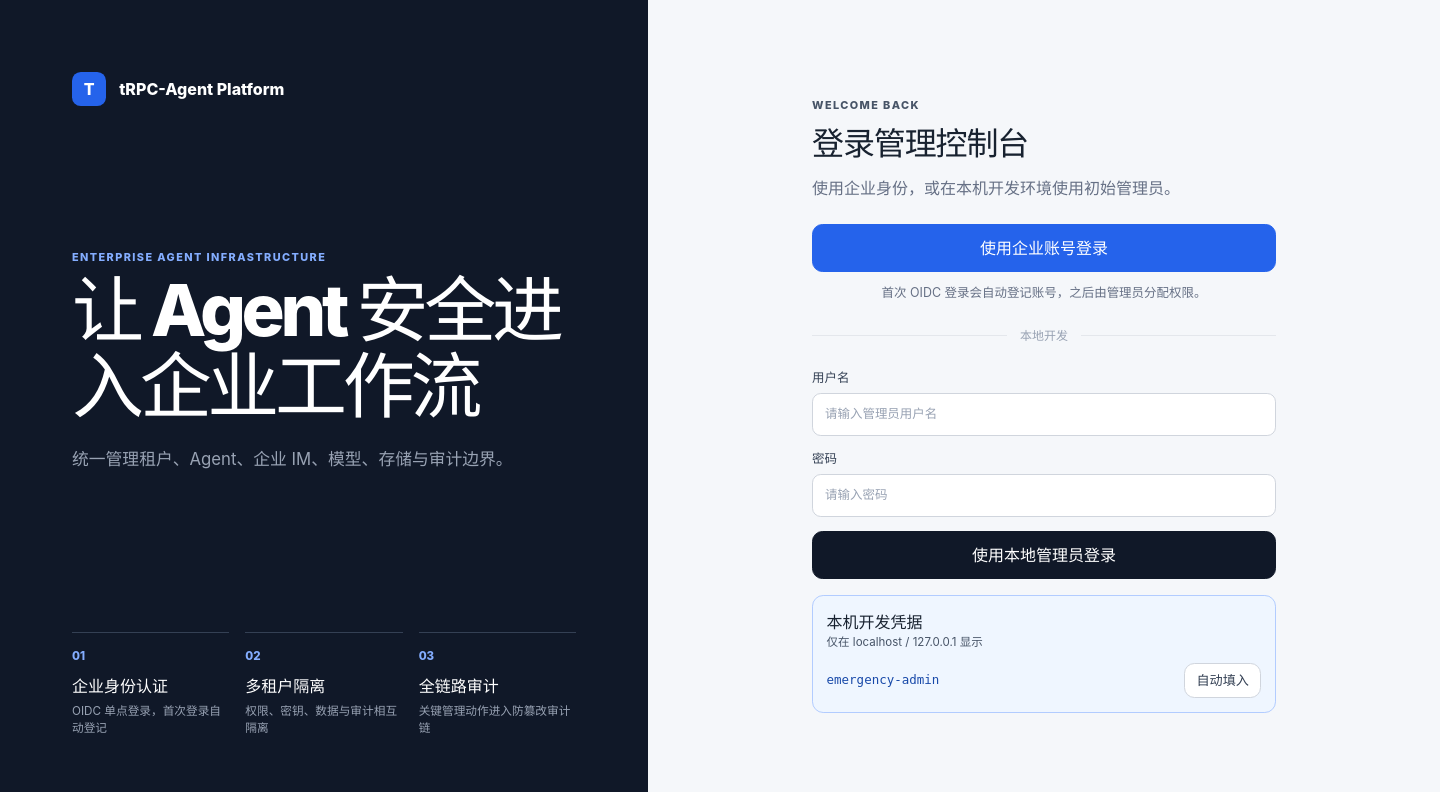
Scenario: 本地应急管理员可登录
The image size is (1440, 792).
Expected: the button named "应急登录" is shown, [812,531,1276,579]
Step 1. Type "admin" into the field labelled "用户名" → (1044, 415), box [812,393,1276,436]
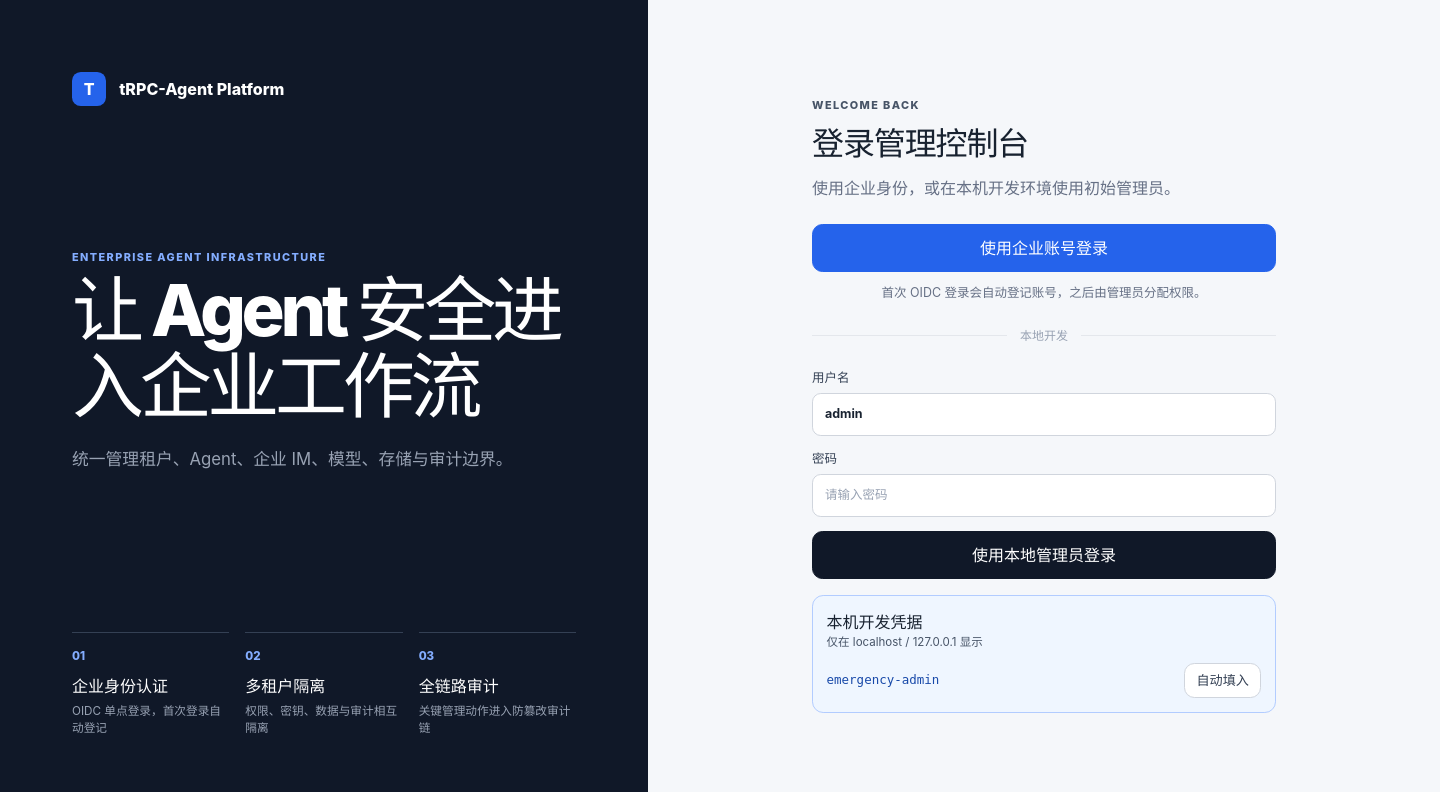
Step 2. Type "secret" into the password field labelled "密码" → (1044, 496), box [812,474,1276,517]
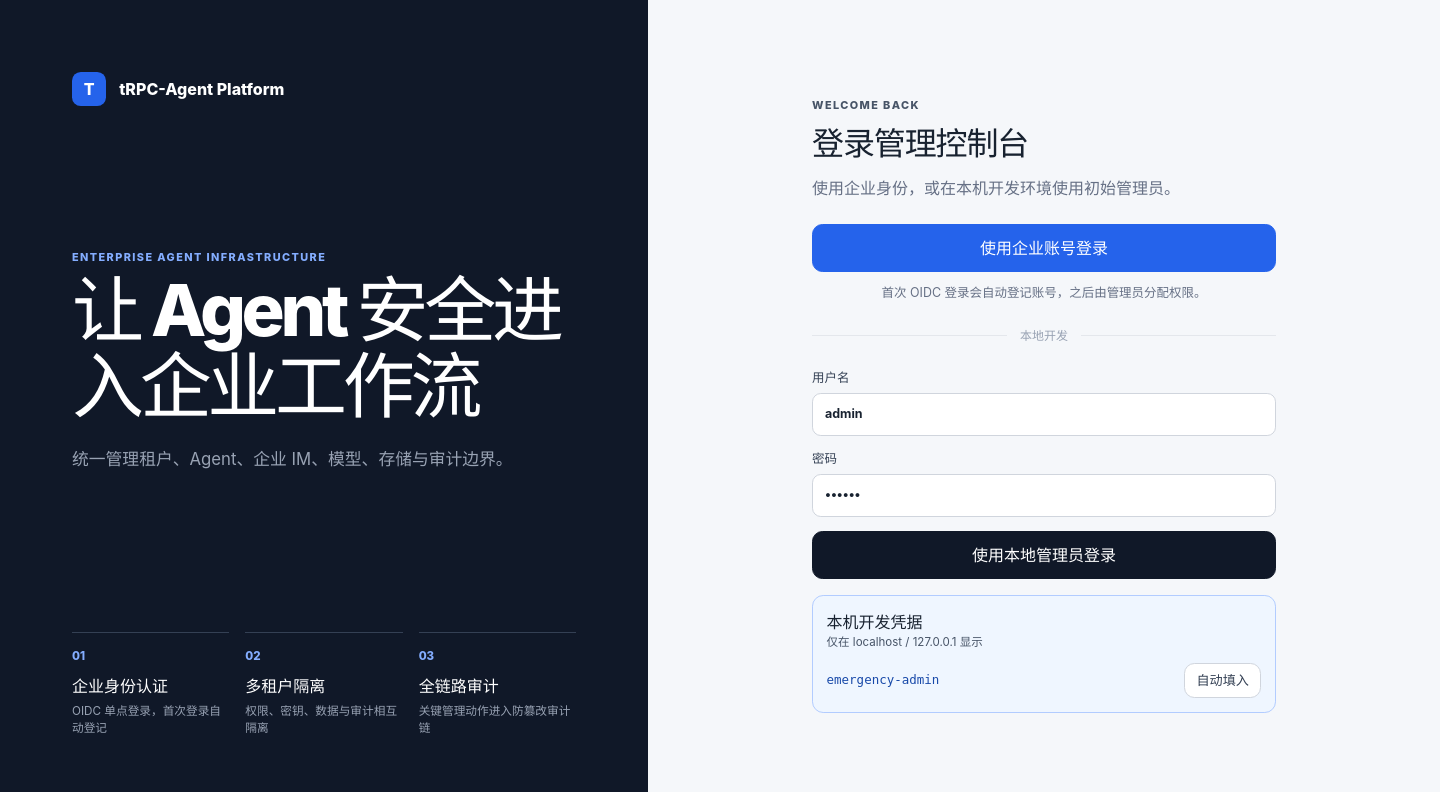
Step 3. Click the button named "应急登录" → (1044, 555), box [812,531,1276,579]
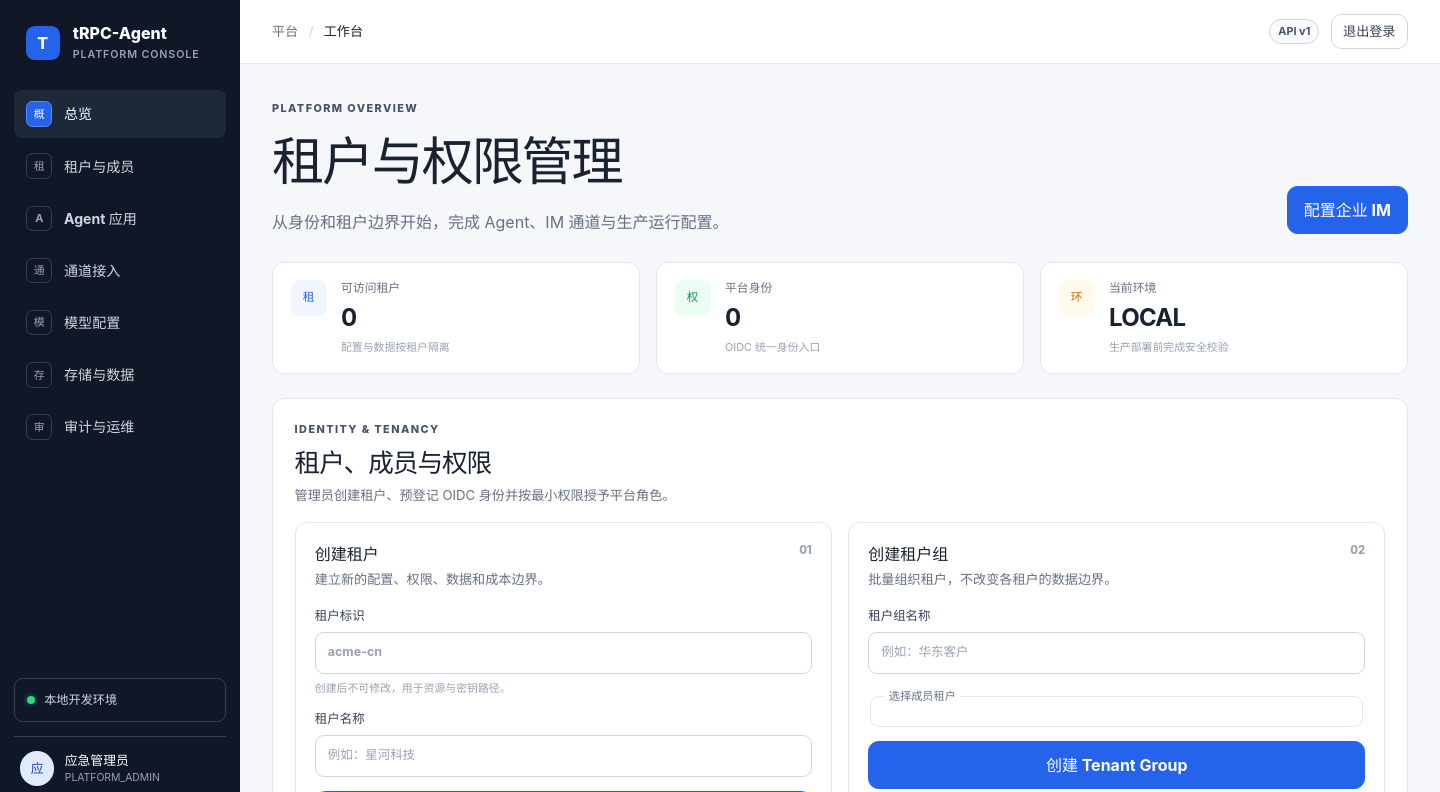
Expected: the text "应急管理员" is shown, [65,753,129,768]
